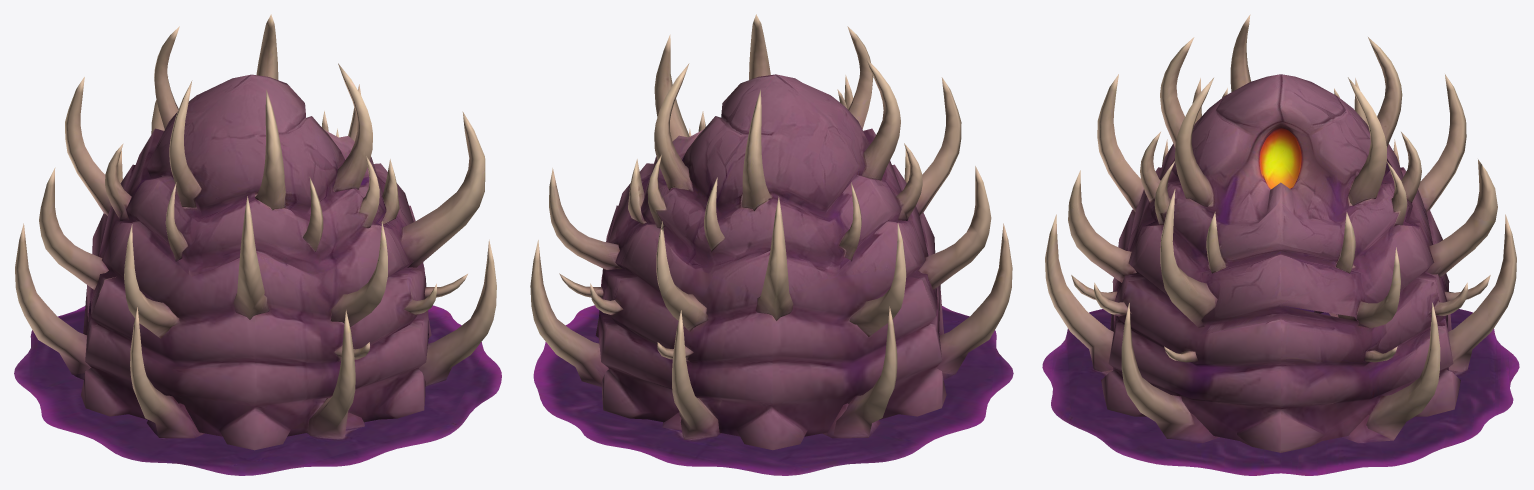
Rendered from hatchery.glb.
3 views of the same model, side by side, from view 1: azimuth 30°, elevation 25°; view 2: azimuth 150°, elevation 25°; view 3: azimuth 270°, elevation 25° (orthographic).
Parts seen in each view (by area): view 1: tripo_node_fd2a3dbb-b8b0-45f8-8e5f-e2afdec318ad; view 2: tripo_node_fd2a3dbb-b8b0-45f8-8e5f-e2afdec318ad; view 3: tripo_node_fd2a3dbb-b8b0-45f8-8e5f-e2afdec318ad.
Boxes of the visible parts, x1,y1,x2,y2 form: tripo_node_fd2a3dbb-b8b0-45f8-8e5f-e2afdec318ad: [14, 14, 501, 475]; tripo_node_fd2a3dbb-b8b0-45f8-8e5f-e2afdec318ad: [530, 14, 1013, 475]; tripo_node_fd2a3dbb-b8b0-45f8-8e5f-e2afdec318ad: [1042, 14, 1519, 475].
Size of the model in its own units: 7 by 5.24 by 6.96.
Materials: 1 (1 with a texture image).
